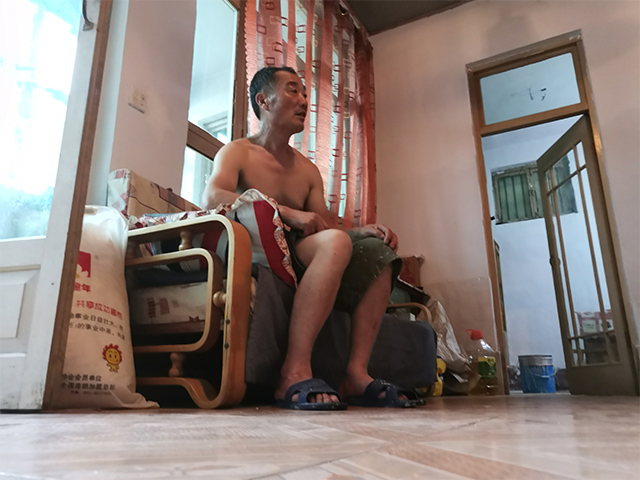curtain: (310, 2, 377, 218)
slippers: (268, 378, 350, 412), (344, 378, 426, 409)
stool: (102, 165, 439, 412)
